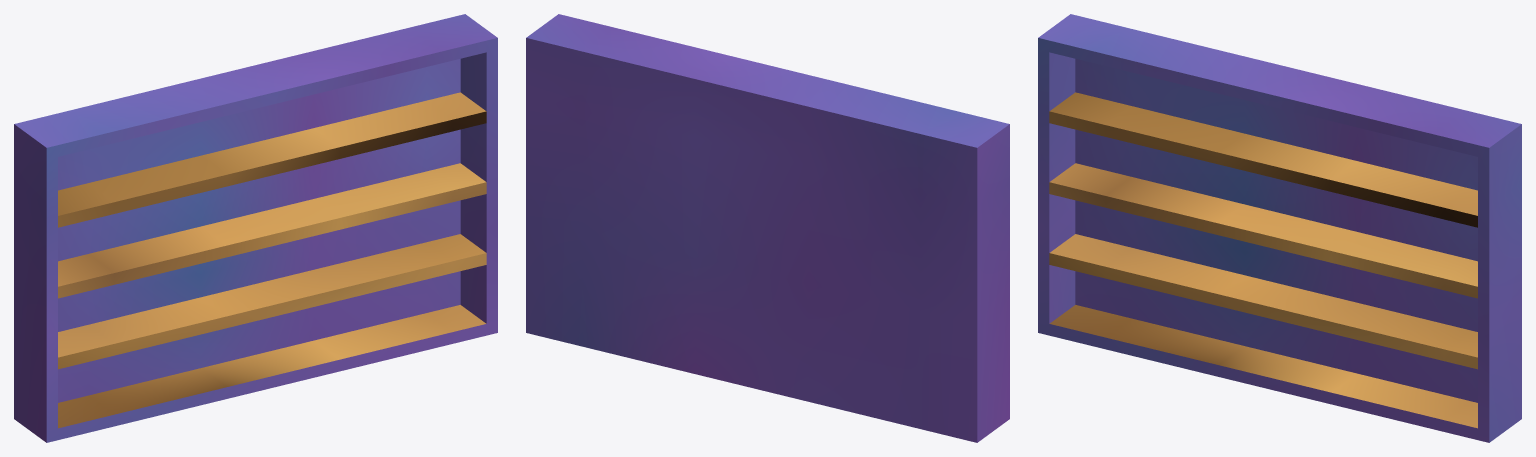
File: shelf.fbx
The picture shows the model from 3 angles, left to right: view 1: azimuth 30°, elevation 25°; view 2: azimuth 150°, elevation 25°; view 3: azimuth 330°, elevation 25°; orthographic projection.
Visible parts, largest first — view 1: shelf1; view 2: shelf1; view 3: shelf1.
Part boxes in pixels (x1=…): shelf1: x1=14, y1=14, x2=497, y2=442; shelf1: x1=526, y1=14, x2=1009, y2=442; shelf1: x1=1038, y1=14, x2=1521, y2=442.
Bounding box in the file's own units: 400 × 250 × 50.
2 materials, 2 textured.
